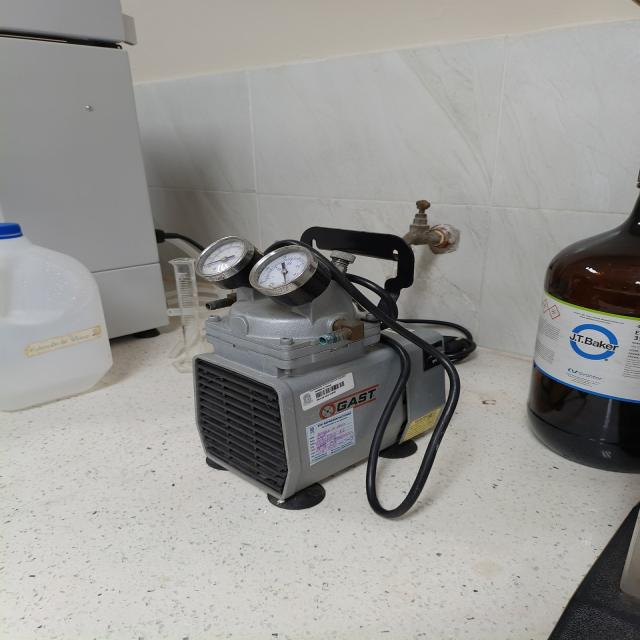Bomba de Vacio de Membrana - Diafragma Portatil: (193, 227, 459, 518)
